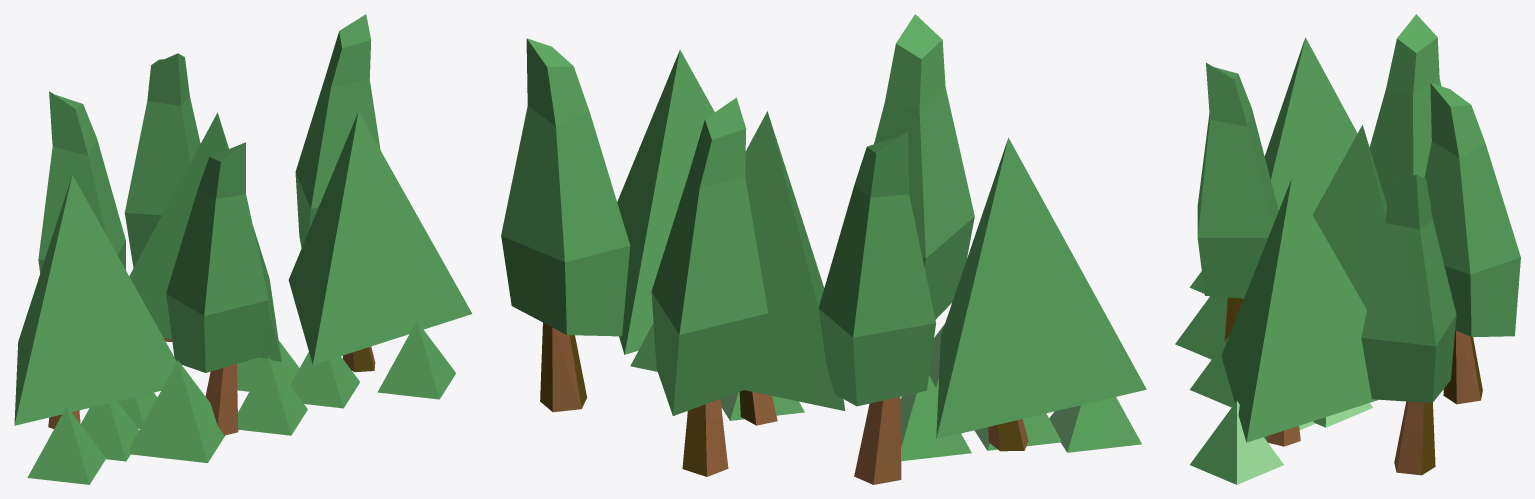
File: trees.glb
3 renders of one model, left to right at view 1: azimuth 30°, elevation 25°; view 2: azimuth 150°, elevation 25°; view 3: azimuth 270°, elevation 25°, orthographic. The views are drawn at different scales.
Parts seen in each view (by area): view 1: Cube.003; view 2: Cube.003; view 3: Cube.003.
Boxes of the visible parts, x1,y1,x2,y2 form: Cube.003: (14,14,472,484); Cube.003: (501,14,1146,484); Cube.003: (1175,14,1520,484).
Bounding box in the file's own units: 8.87 × 5.5 × 5.59.
Materials: 3 (3 with a texture image).
